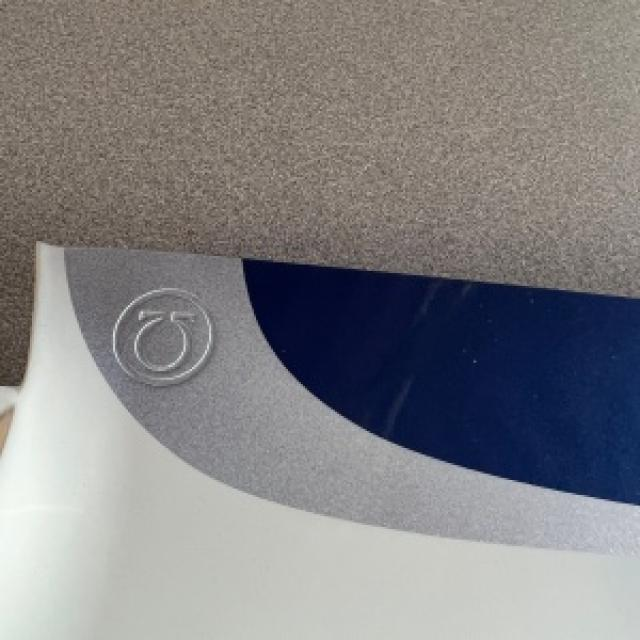healthy: (0, 241, 638, 638)
